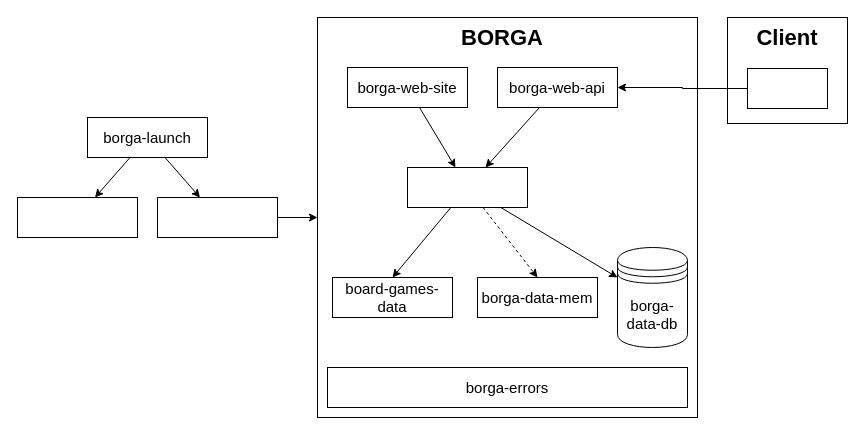
Some shapes in this 865 by 435 pixel diagram are drawn without their labels. The centre of each missing label's shape, as x and y in pixels:
"borga-config" goes at pixel 77 217.
"borga-server" goes at pixel 217 217.
"borga-services" goes at pixel 467 187.
"client.js" goes at pixel 787 88.
